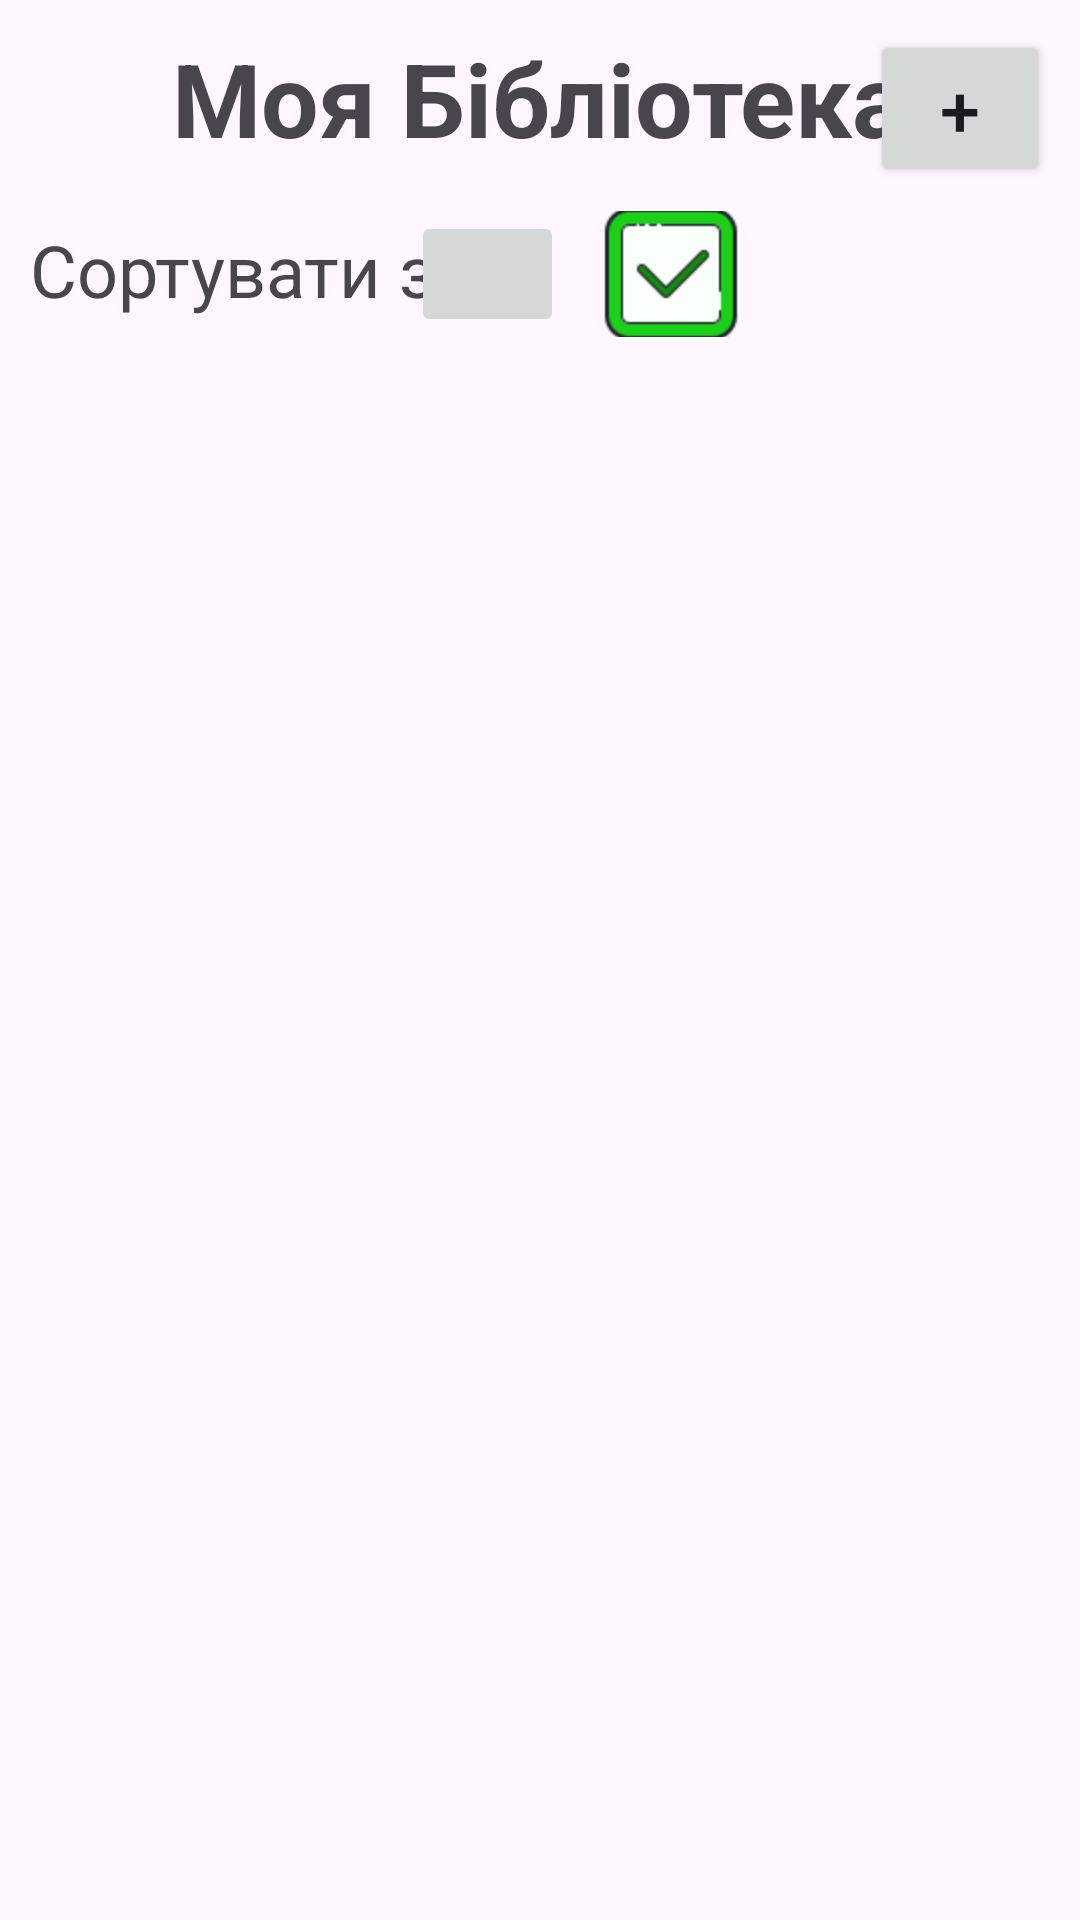

Where to tap for icons on this 1080w x 1920h app screen, as (x=x, y=y):
complete: (x=671, y=274)
